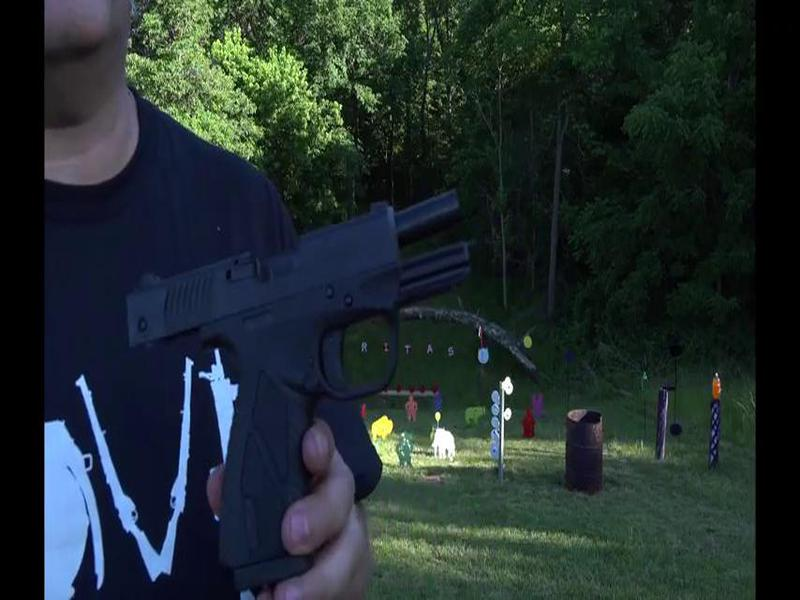Pistola: (124, 184, 508, 574)
